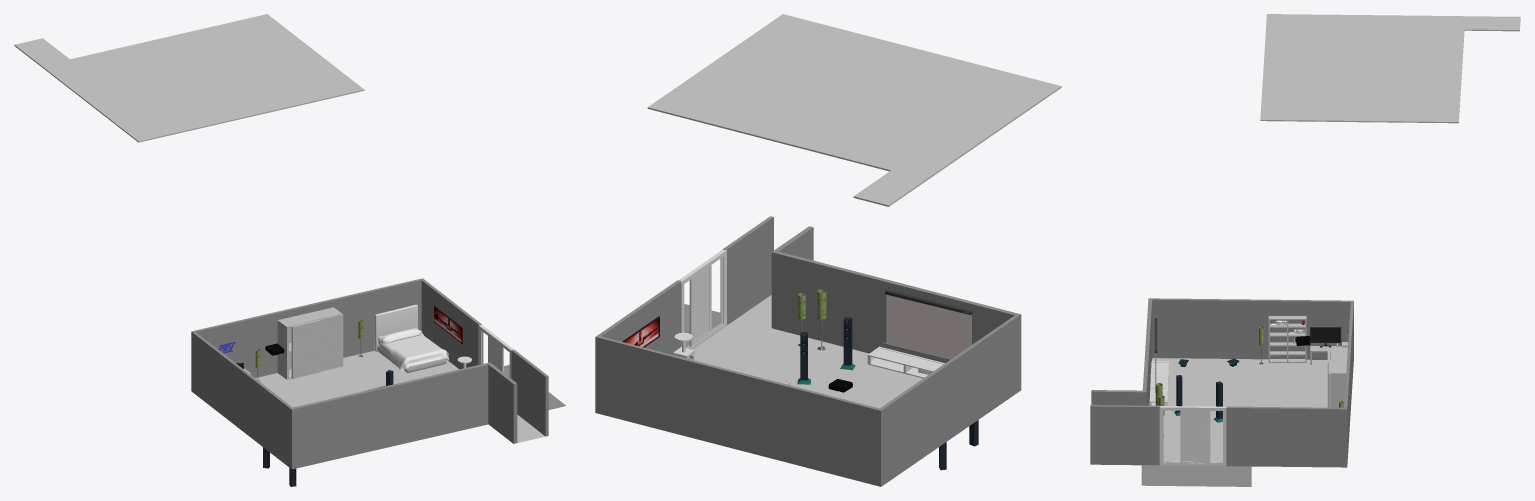
The model's file is Roomfbx.FBX.
3 renders of one model, left to right at view 1: azimuth 30°, elevation 25°; view 2: azimuth 150°, elevation 25°; view 3: azimuth 270°, elevation 25°, orthographic. The views are drawn at different scales.
Parts seen in each view (by area): view 1: Line001, Techo, Suelo, Armario, Plane002, Box019; view 2: Line001, Techo, Suelo, Cinema, Finestra, EstanteHomeCinema, Box012, W023, HomeCinemaTower; view 3: Line001, Techo, Suelo, Valcon, Finestra, Armario, Estante, Box012, EstanteHomeCinema, Monitor003.
Boxes of the visible parts, <box> form: Line001: <box>191,278,548,469</box>; Techo: <box>14,14,364,142</box>; Suelo: <box>255,350,545,442</box>; Armario: <box>277,307,343,379</box>; Plane002: <box>378,333,449,371</box>; Box019: <box>374,304,417,351</box>; Line001: <box>595,216,1021,486</box>; Techo: <box>647,14,1061,206</box>; Suelo: <box>693,295,922,408</box>; Cinema: <box>882,290,972,359</box>; Finestra: <box>689,265,711,347</box>; EstanteHomeCinema: <box>867,346,944,378</box>; Box012: <box>679,249,726,349</box>; W023: <box>622,316,659,347</box>; HomeCinemaTower: <box>840,317,855,370</box>; Line001: <box>1090,298,1353,467</box>; Techo: <box>1260,14,1520,123</box>; Suelo: <box>1149,358,1330,462</box>; Valcon: <box>1141,465,1251,486</box>; Finestra: <box>1180,410,1210,463</box>; Armario: <box>1327,347,1347,407</box>; Estante: <box>1268,316,1306,362</box>; Box012: <box>1159,406,1226,465</box>; EstanteHomeCinema: <box>1149,361,1168,405</box>; Monitor003: <box>1310,327,1341,347</box>.
Size of the model in its own units: 2022 by 1795 by 2109.
